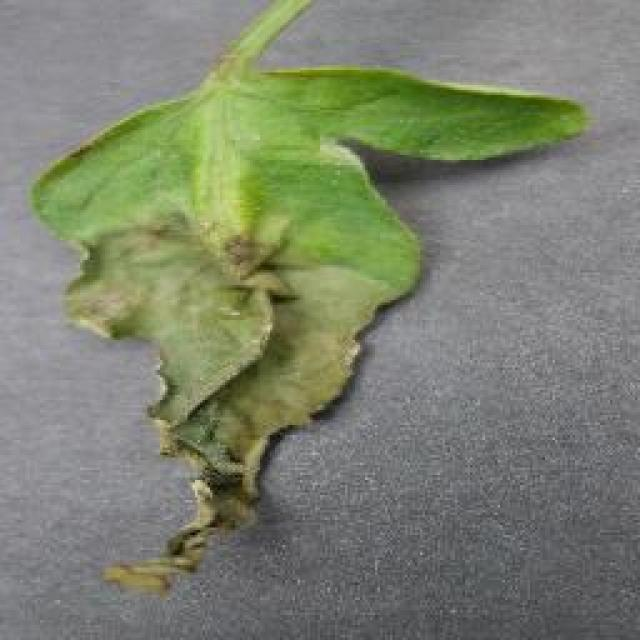Tomato___Late_blight: (32, 0, 585, 588)
